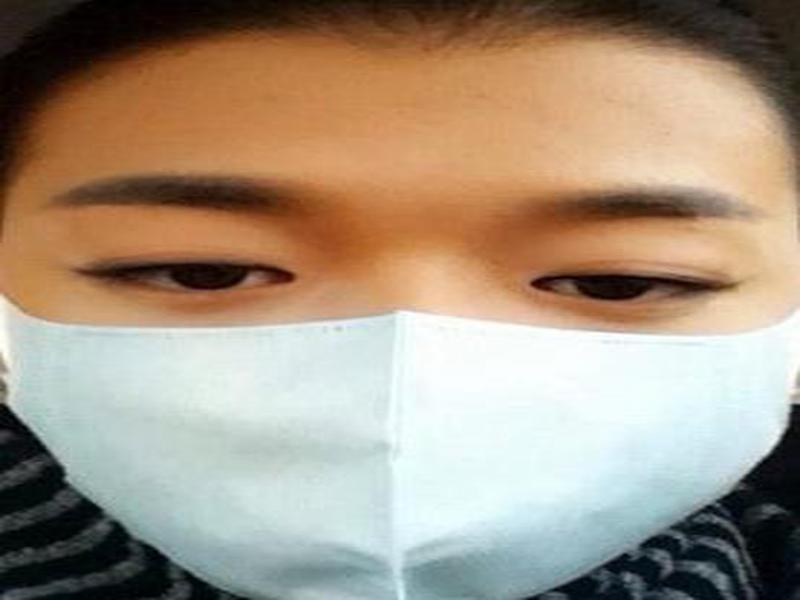with_mask: (1, 30, 795, 600)
